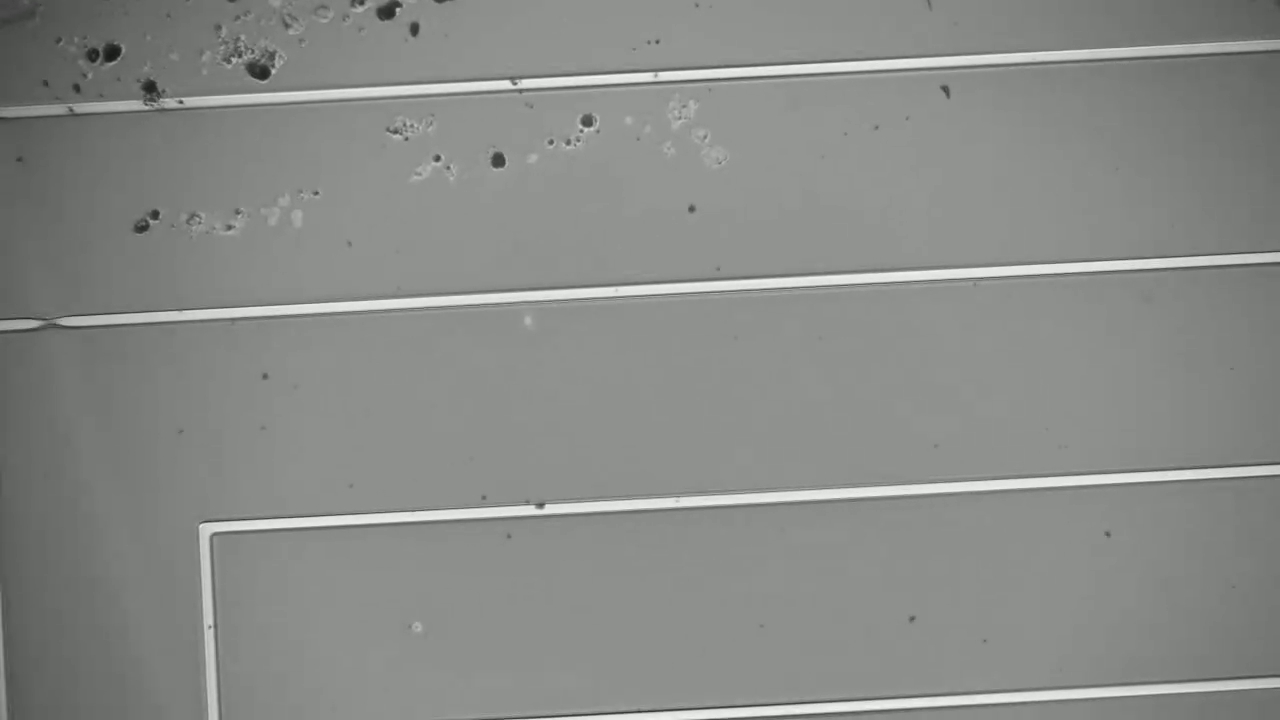edge_bite: (21, 312, 76, 338)
